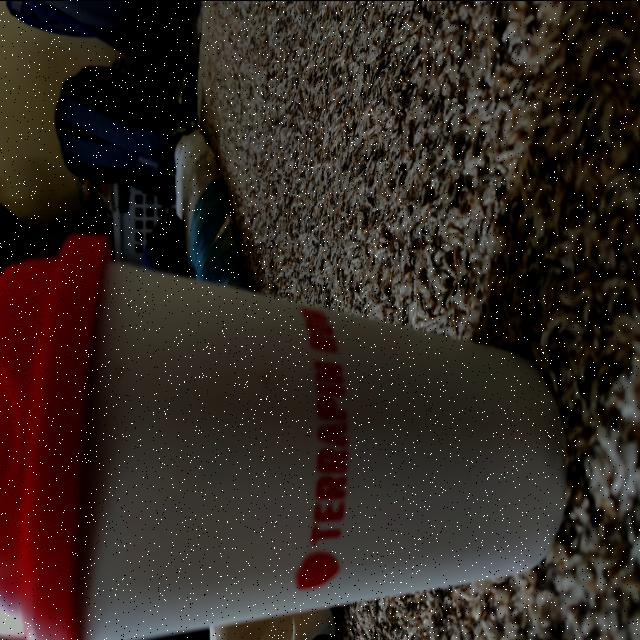mug: (0, 233, 575, 640)
